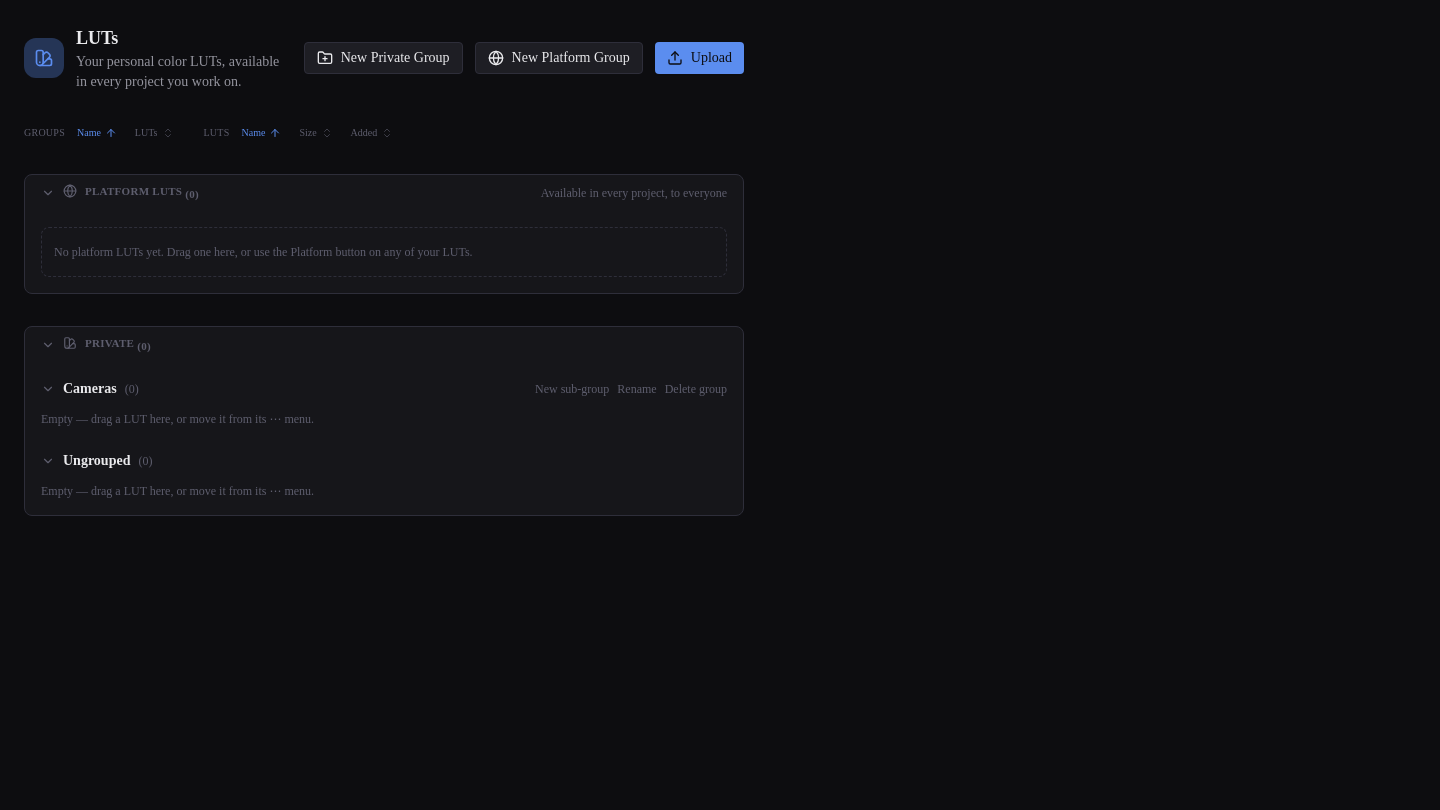
Test case: the new-group dialog › creates on Enter — Radix does not submit forms itself
The image size is (1440, 810).
Click the button "New Private Group": (383, 58) [304,42,463,74]
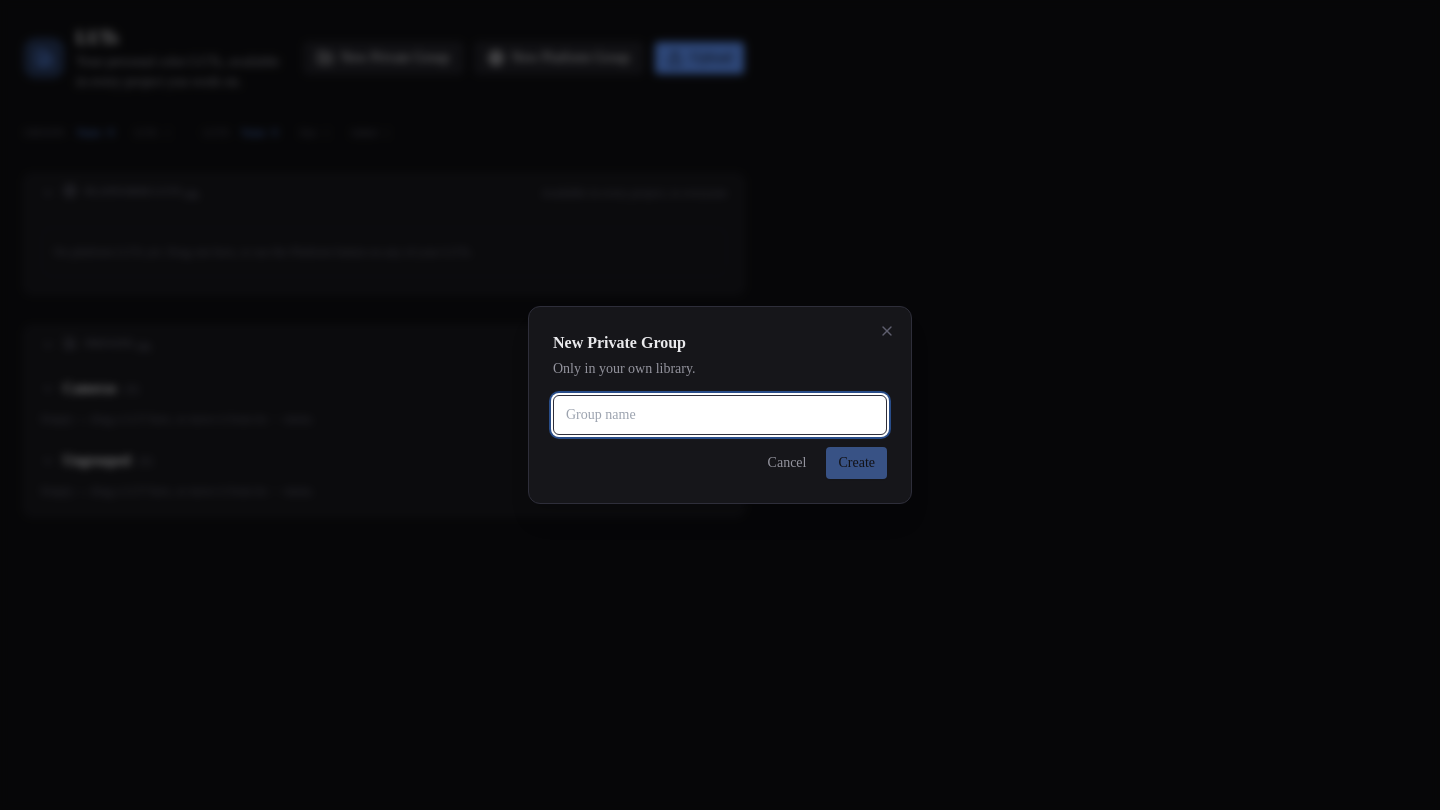
In the field named "New group name": (720, 415) [553,395,887,435], type "Shots"
Then press Enter
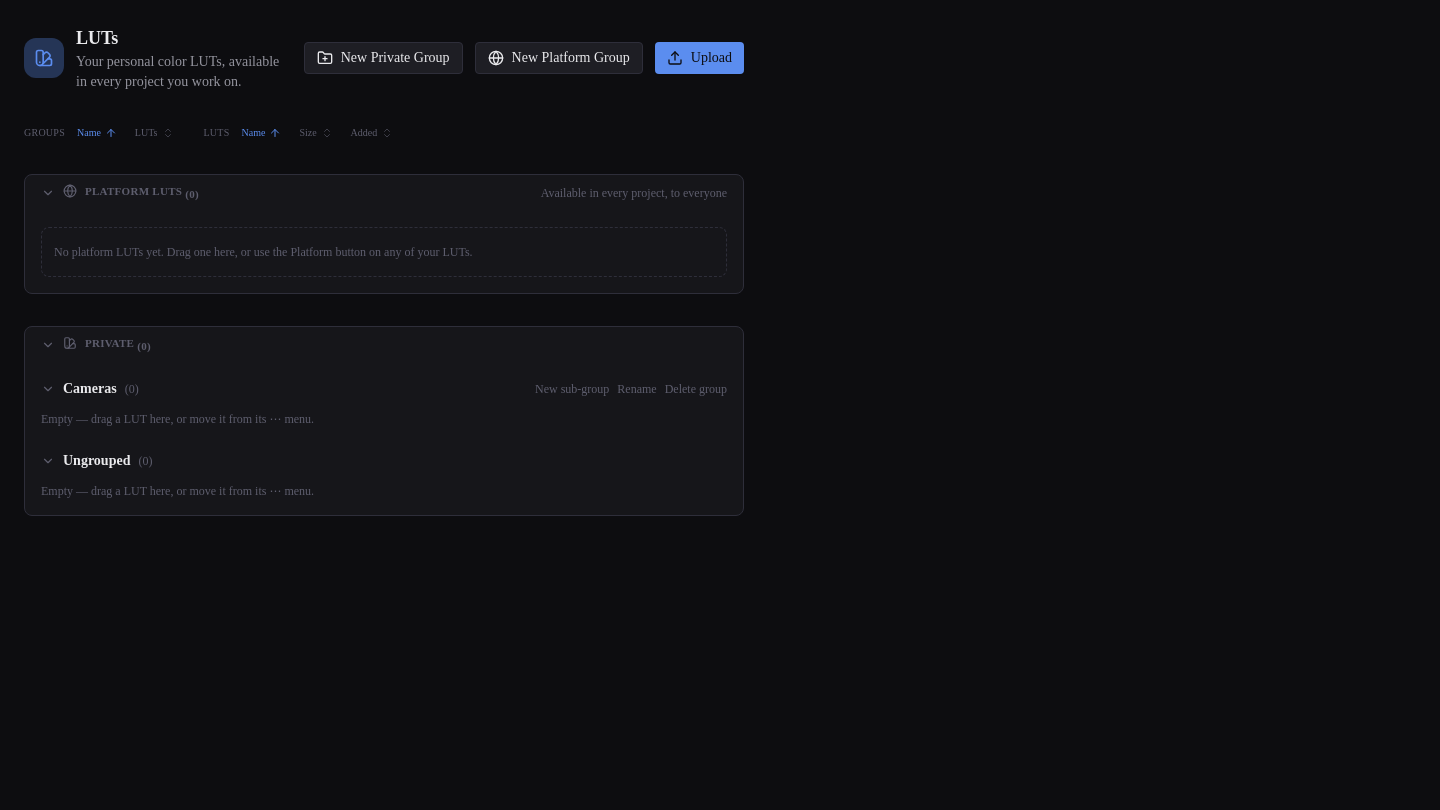
Result: the dialog is gone
